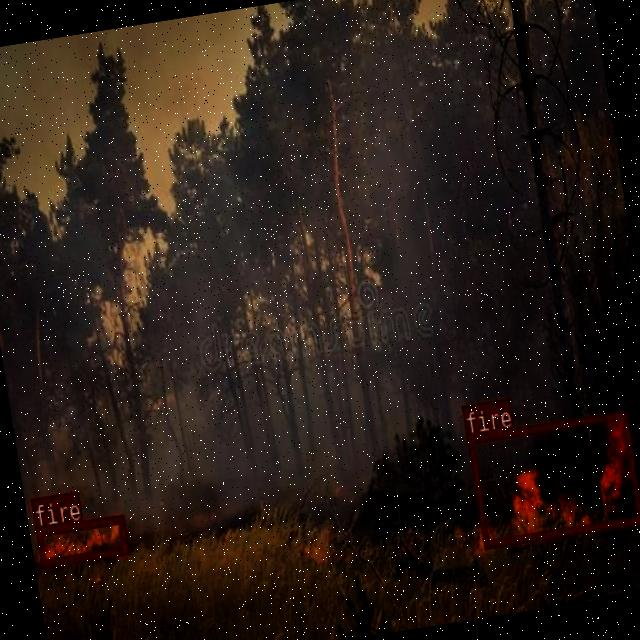fire: (465, 410, 640, 548), (35, 514, 128, 566)
